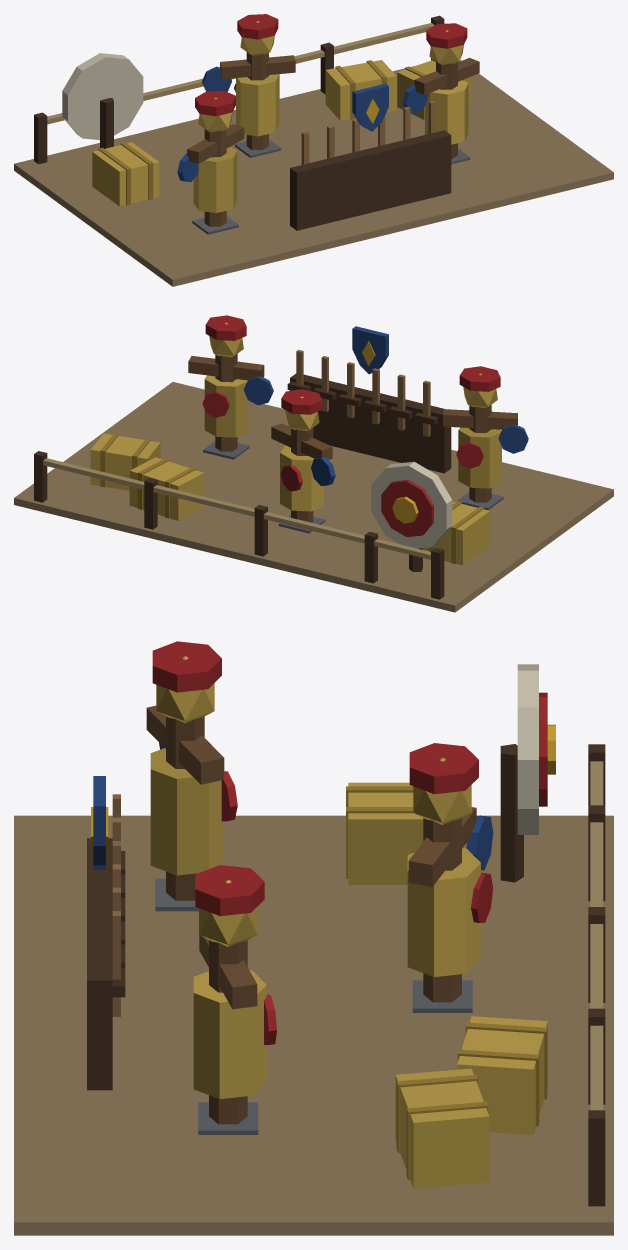
File: Decor_KnightCastle_Training.fbx
3 views of the same model, one above another, from view 1: azimuth 30°, elevation 25°; view 2: azimuth 150°, elevation 25°; view 3: azimuth 270°, elevation 25° (orthographic). The views are drawn at different scales.
Parts seen in each view (by area): view 1: Training_Body; view 2: Training_Body; view 3: Training_Body.
Boxes of the visible parts, x1,y1,x2,y2 form: Training_Body: (14, 14, 613, 286); Training_Body: (14, 315, 613, 612); Training_Body: (14, 641, 613, 1235).
Size of the model in its own units: 17 by 5 by 10.6.
